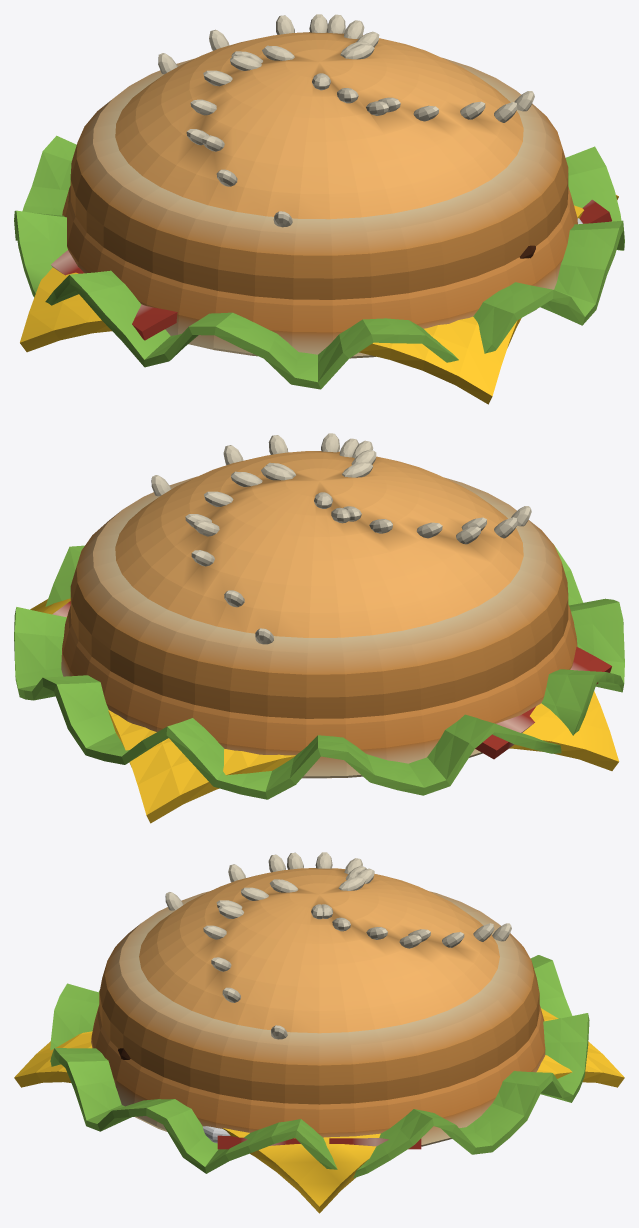
Rendered from lag.glb.
3 views of the same model, one above another, from view 1: azimuth 30°, elevation 25°; view 2: azimuth 150°, elevation 25°; view 3: azimuth 270°, elevation 25° (orthographic). The views are drawn at different scales.
Parts seen in each view (by area): view 1: topbolle, bundbolle, salatblad, osteskive, bacon0.17; view 2: topbolle, bundbolle, salatblad, osteskive, bacon-0.17, bacon0.17; view 3: topbolle, bundbolle, salatblad, osteskive.
Boxes of the visible parts, x1=… form: topbolle: x1=62, y1=32, x2=577, y2=358; bundbolle: x1=70, y1=57, x2=568, y2=299; salatblad: x1=14, y1=135, x2=624, y2=389; osteskive: x1=20, y1=195, x2=618, y2=404; bacon0.17: x1=132, y1=199, x2=611, y2=340; topbolle: x1=61, y1=451, x2=577, y2=778; bundbolle: x1=70, y1=476, x2=568, y2=718; salatblad: x1=14, y1=544, x2=624, y2=799; osteskive: x1=30, y1=598, x2=619, y2=823; bacon-0.17: x1=52, y1=601, x2=535, y2=759; bacon0.17: x1=570, y1=647, x2=611, y2=684; topbolle: x1=91, y1=868, x2=545, y2=1146; bundbolle: x1=99, y1=891, x2=539, y2=1104; salatblad: x1=50, y1=955, x2=589, y2=1178; osteskive: x1=14, y1=1008, x2=624, y2=1213.
Bounding box in the file's own units: 1.86 × 0.6677 × 1.86.
